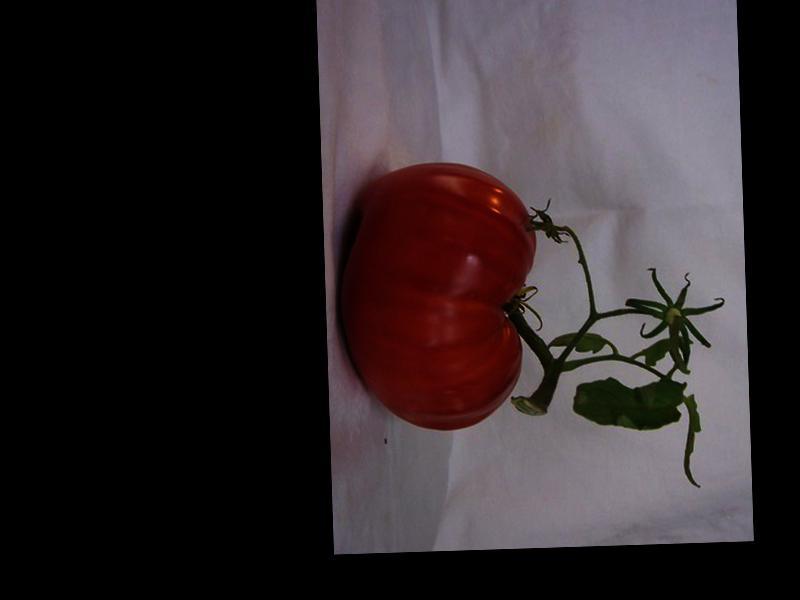Tomato: (334, 159, 541, 435)
